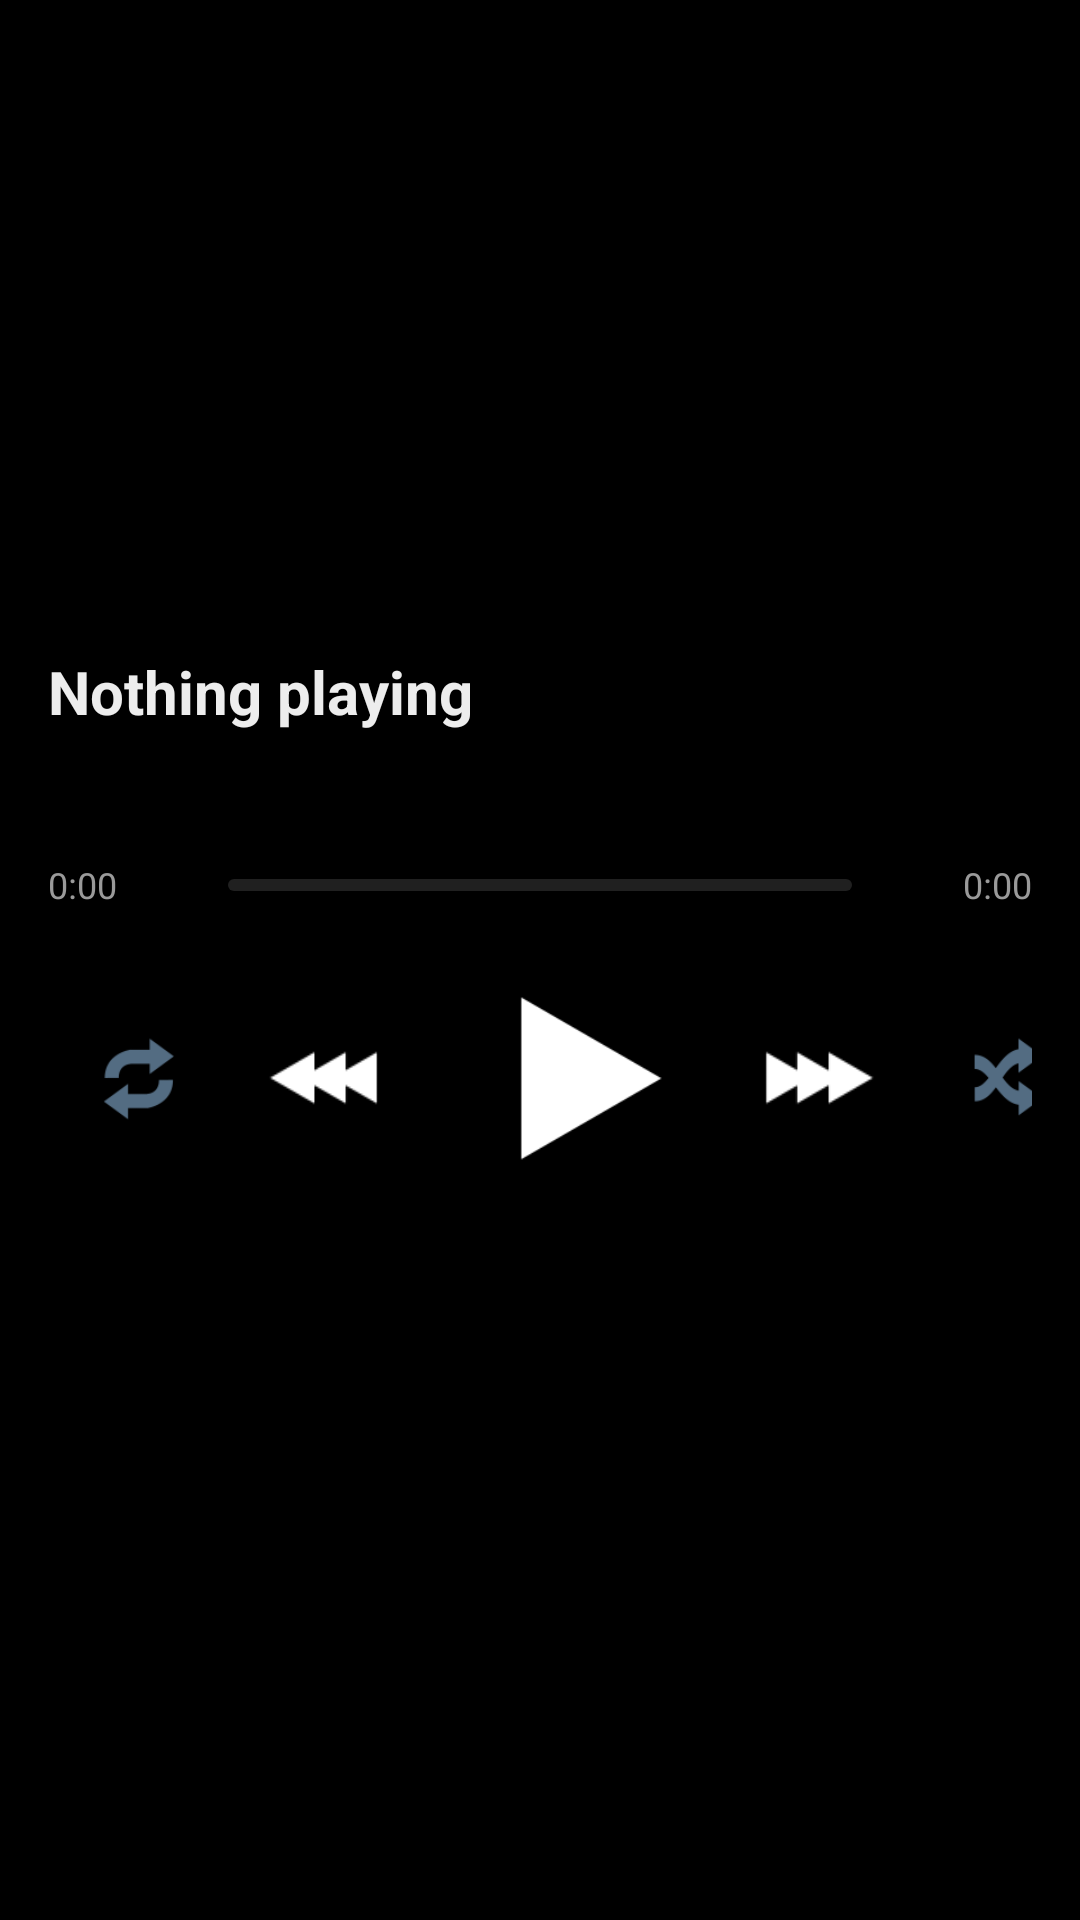

Where to tap for icons on this 1080px×1920px app screen, as (x=x, y=y):
Next: (x=819, y=1077)
Play: (x=591, y=1078)
Previous: (x=324, y=1077)
Repeat: (x=139, y=1079)
